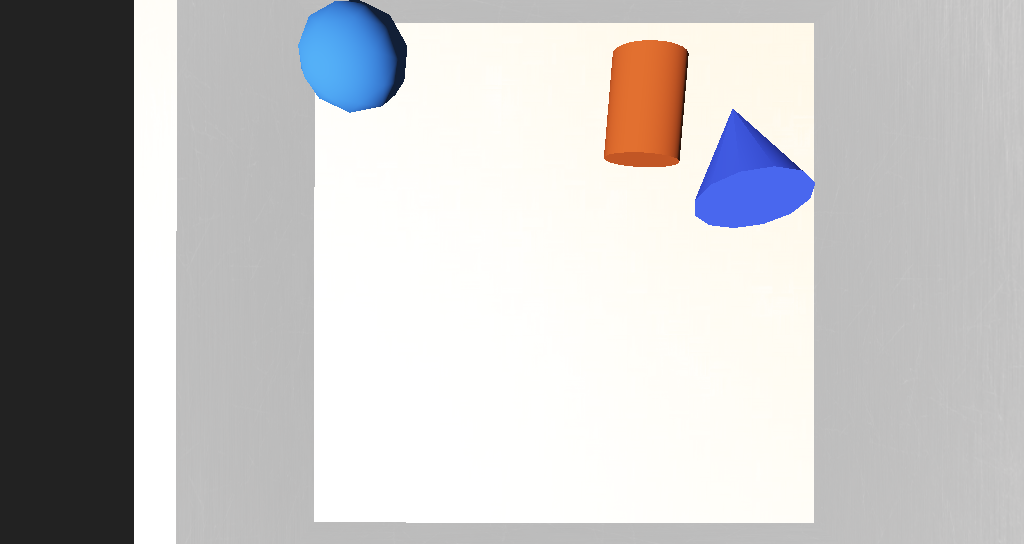cone: (525, 174, 579, 227)
cylinder: (576, 181, 650, 248)
sphere: (354, 160, 414, 203)
